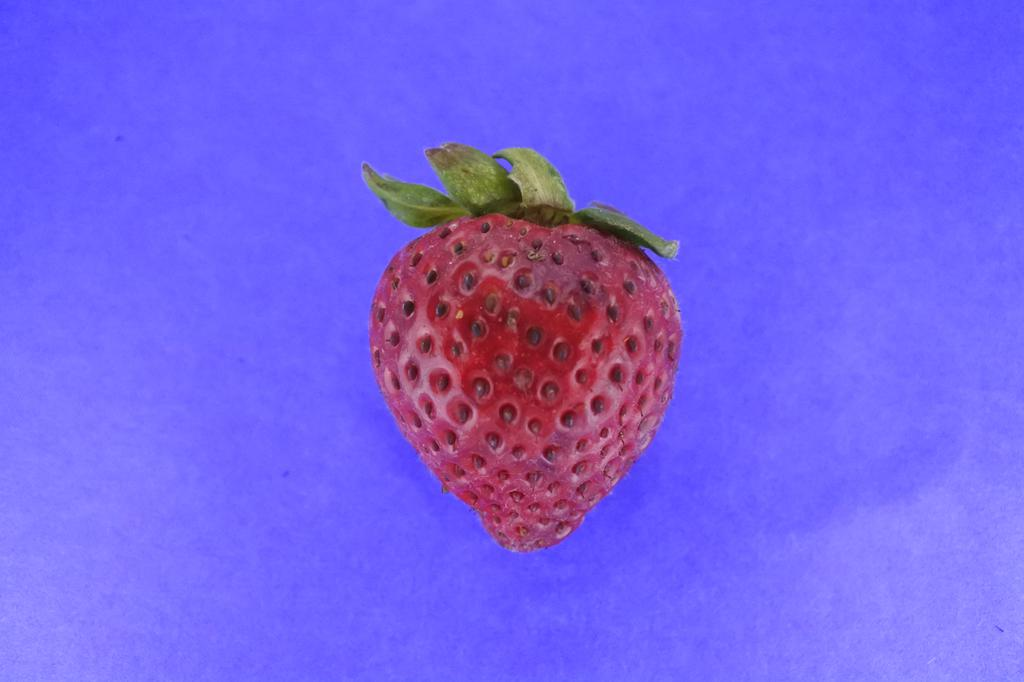red strawberry: (364, 144, 685, 554)
